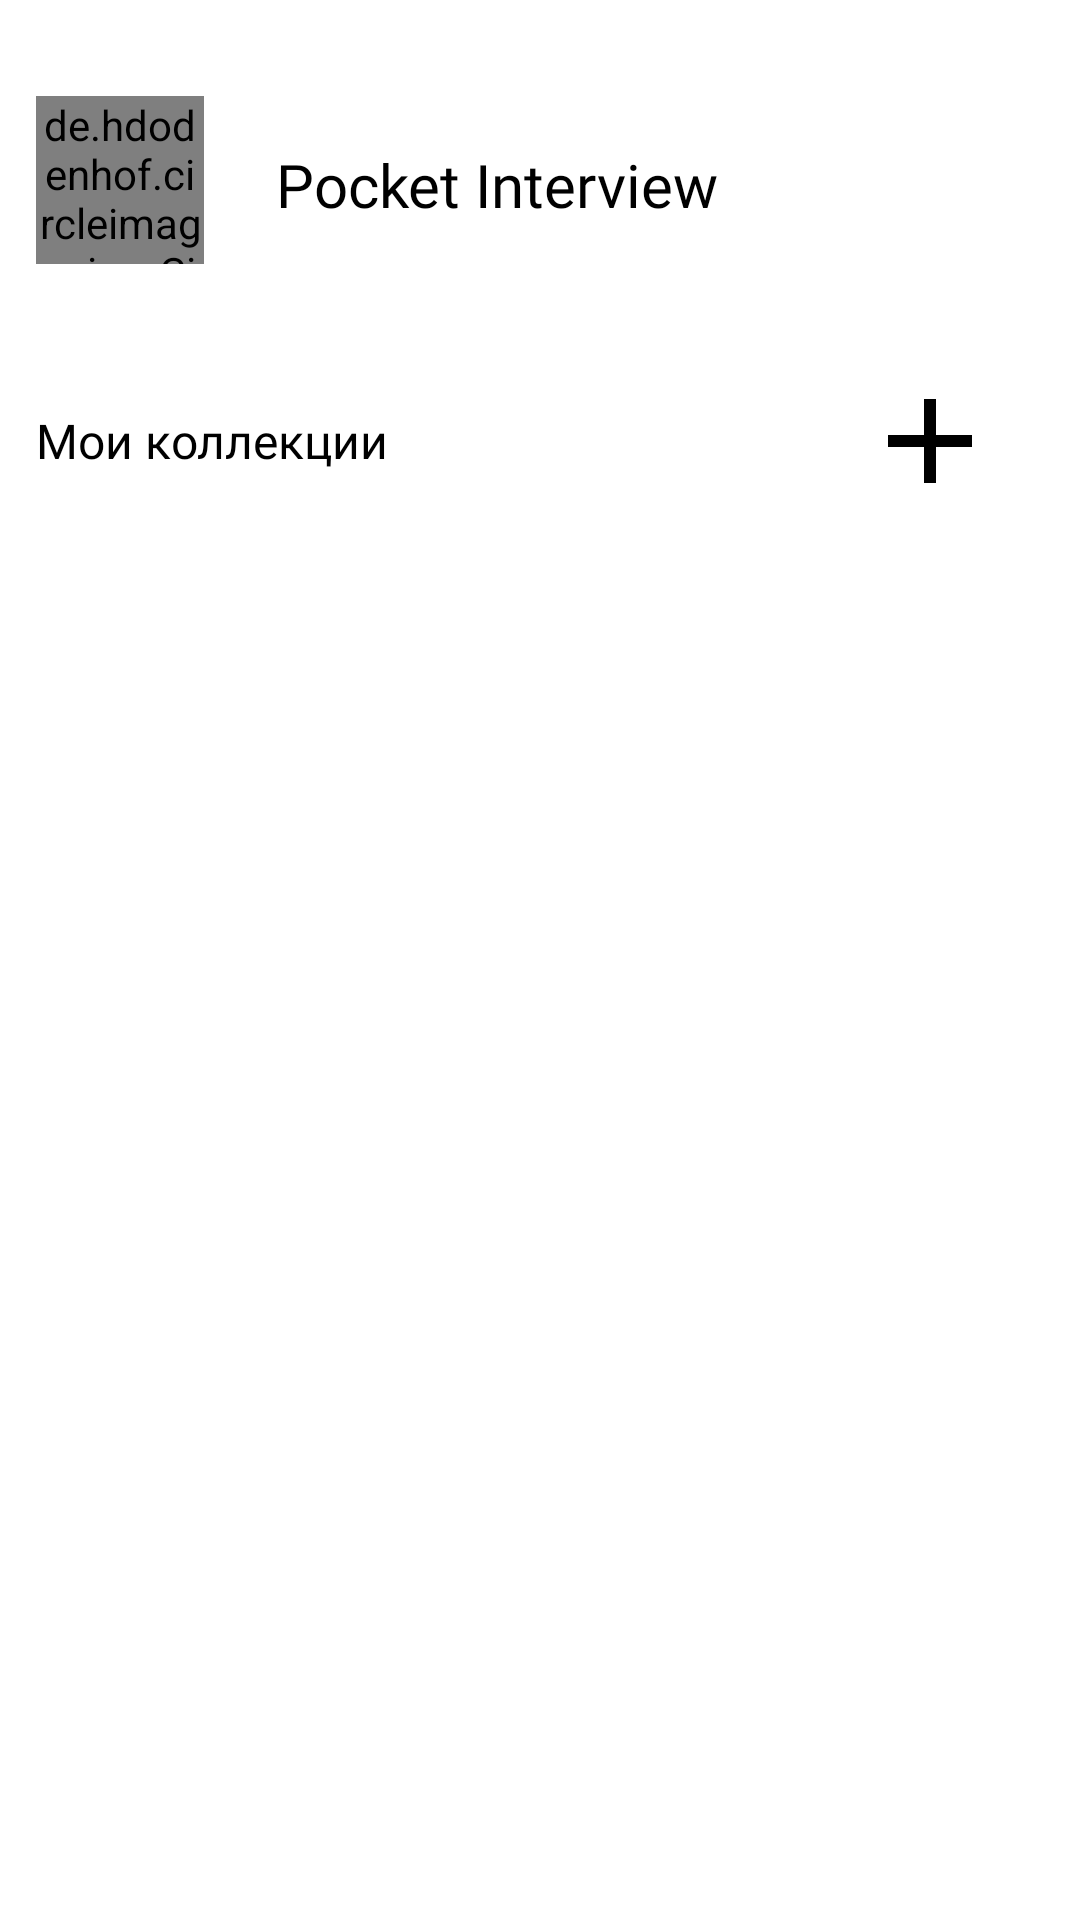

Icons on this 1080×1920 Android screen, each with its box as (x1, y1, x2, y2):
add: (888, 399, 972, 483)
